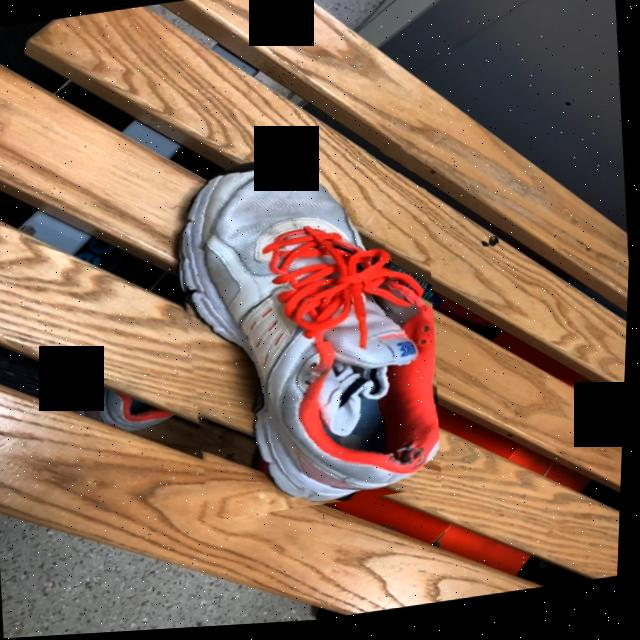shoe: (181, 169, 443, 509)
